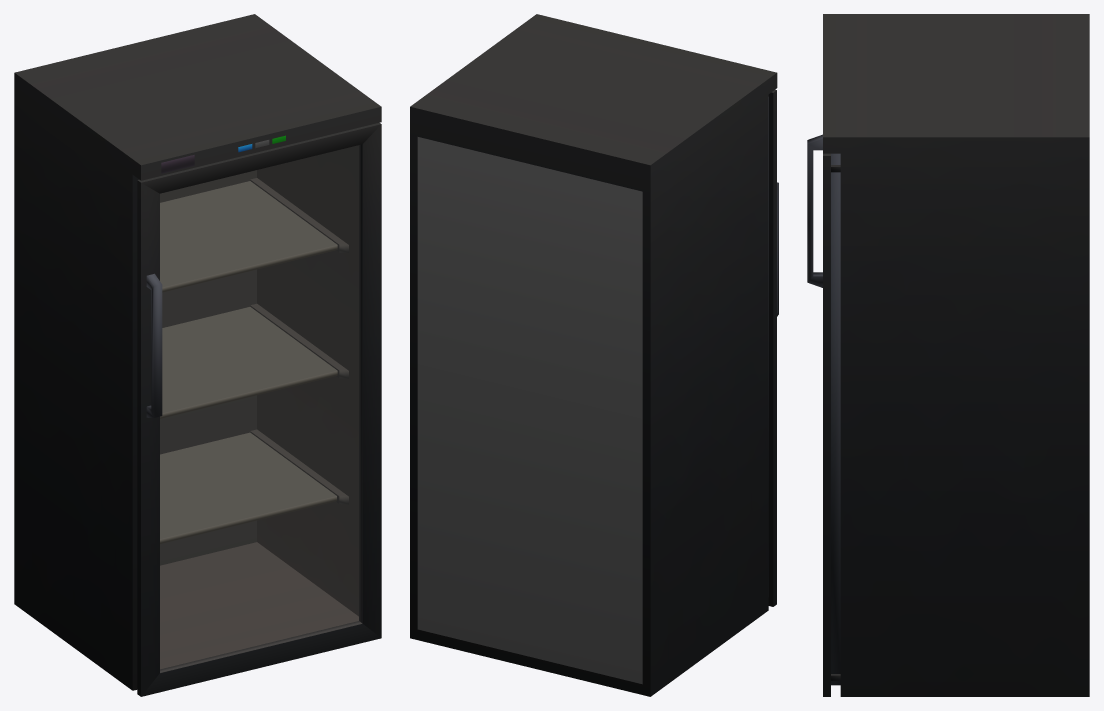
File: TSP_Store_Fridge_01A.fbx
The picture shows the model from 3 angles, left to right: view 1: azimuth 30°, elevation 25°; view 2: azimuth 150°, elevation 25°; view 3: azimuth 270°, elevation 25°; orthographic projection. The views are drawn at different scales.
Visible parts, largest first — view 1: TSP_Store_Fridge_01A, TSP_Store_Fridge_01A_Door; view 2: TSP_Store_Fridge_01A, TSP_Store_Fridge_01A_Door; view 3: TSP_Store_Fridge_01A, TSP_Store_Fridge_01A_Door.
Boxes of the visible parts, x1=… form: TSP_Store_Fridge_01A: x1=14, y1=14, x2=381, y2=690; TSP_Store_Fridge_01A_Door: x1=137, y1=122, x2=381, y2=696; TSP_Store_Fridge_01A: x1=410, y1=14, x2=777, y2=696; TSP_Store_Fridge_01A_Door: x1=768, y1=89, x2=778, y2=606; TSP_Store_Fridge_01A: x1=823, y1=14, x2=1089, y2=696; TSP_Store_Fridge_01A_Door: x1=807, y1=134, x2=840, y2=696.
Bounding box in the file's own units: 1 × 2.11 × 0.9661.
